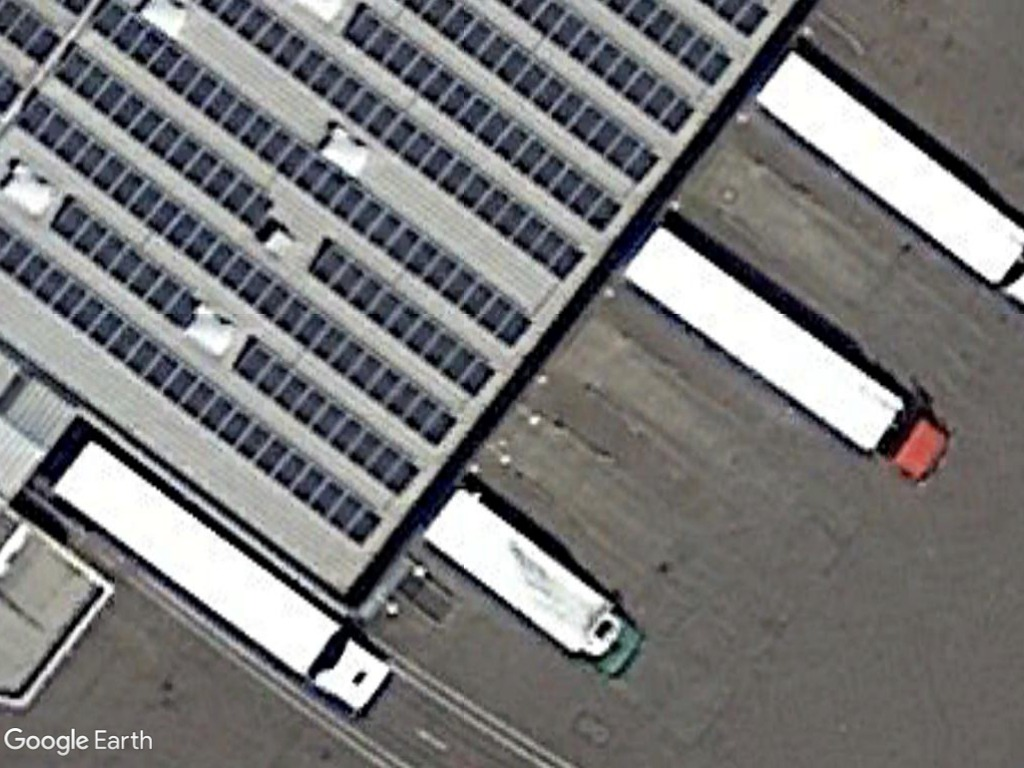longvehicle: (54, 436, 402, 722), (613, 218, 955, 492)
truck: (426, 486, 642, 684)
